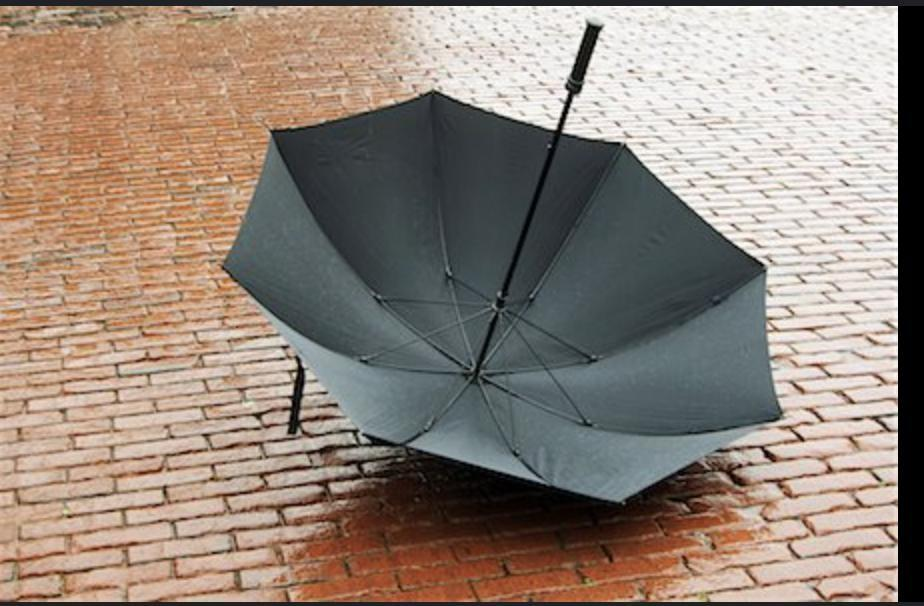Umbrella: (223, 88, 782, 506)
